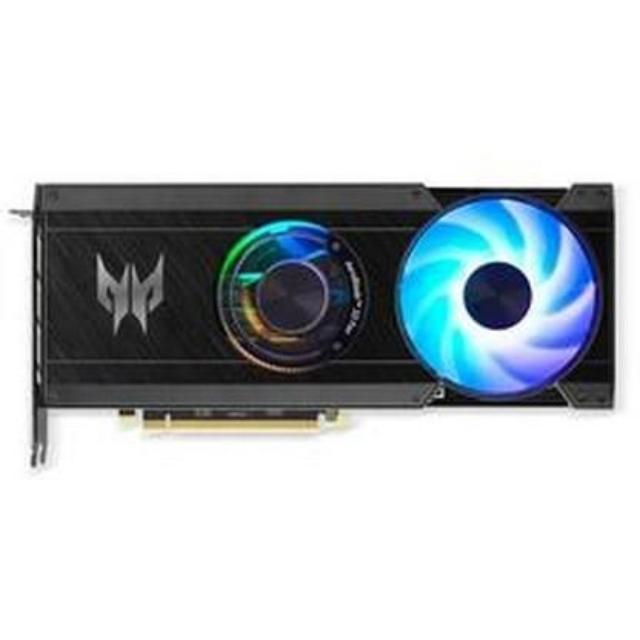GPU: (18, 174, 618, 440)
